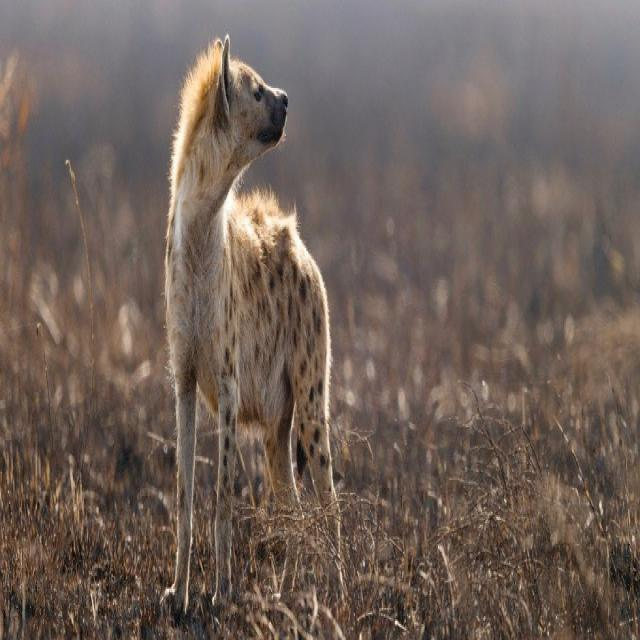Hyena: (156, 70, 337, 633)
